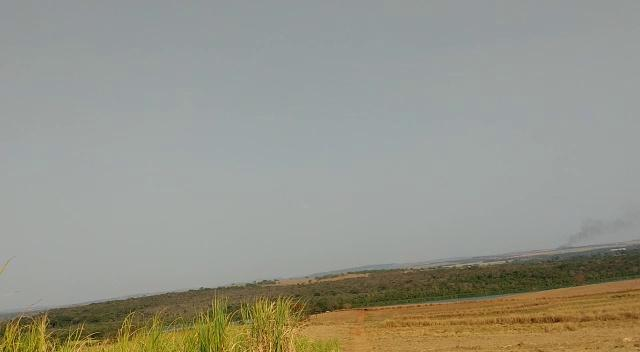smoke: (580, 215, 627, 240)
